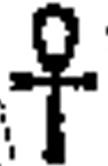Ankh: (6, 1, 101, 166)
